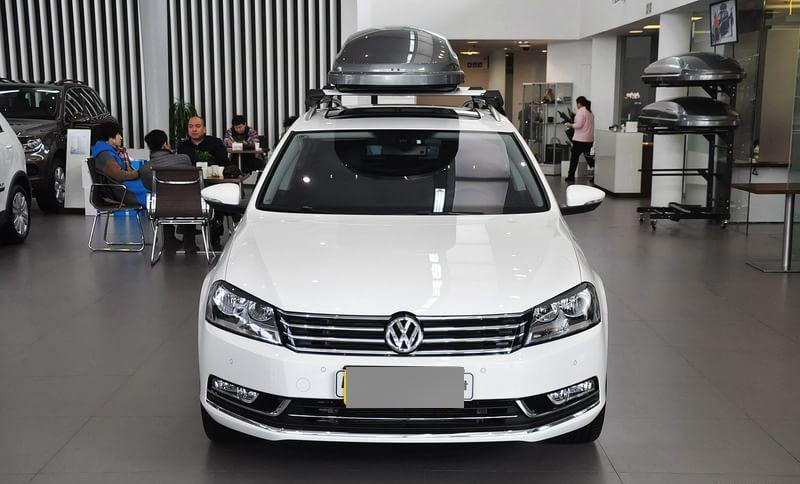Wagon: (196, 24, 612, 447)
